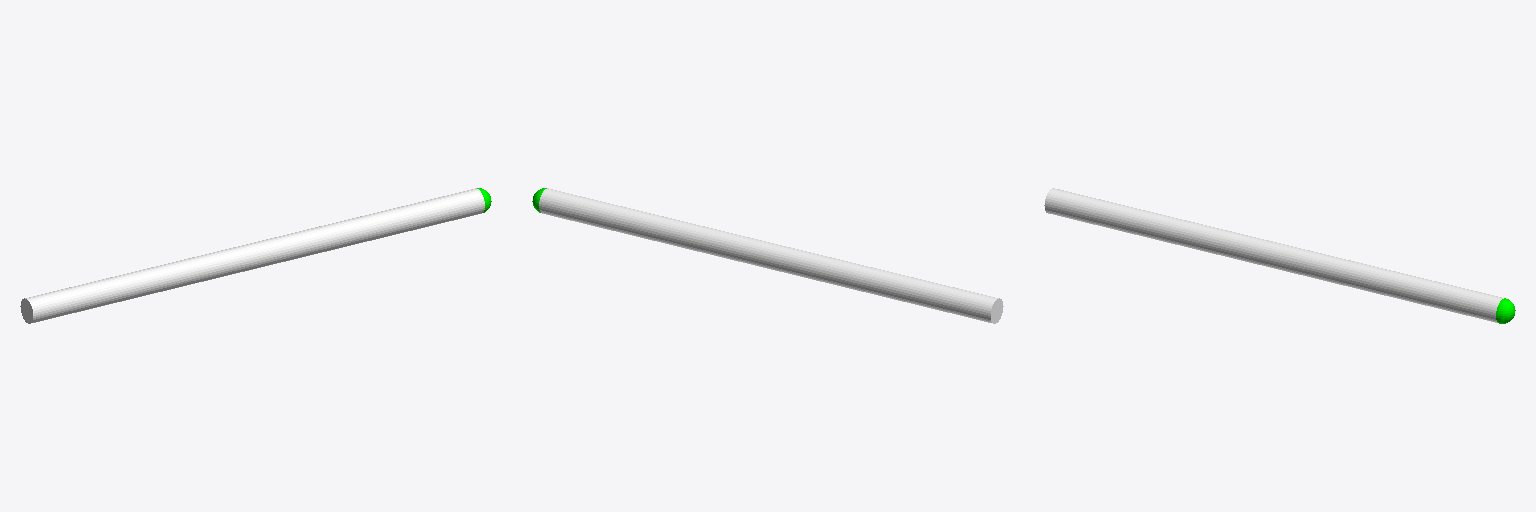
robot.urdf — two_link_arm:
<?xml version="1.0"?>
<robot name="two_link_arm">

  <!-- Origine -->
  <link name="base">
    <inertial>
      <origin xyz="0 0 0" rpy="0 0 0"/>
      <mass value="0.001"/>
      <inertia ixx="1e-6" iyy="1e-6" izz="1e-6" ixy="0" ixz="0" iyz="0"/>
    </inertial>
  </link>

  <!-- Premier axe (joint 1) -->
  <joint name="joint1" type="revolute">
    <parent link="base"/>
    <child link="link1"/>
    <origin xyz="0 0 0" rpy="0 0 0"/>
    <axis xyz="0 0 1"/>
    <!-- NOTE : pas sûr qu'il faille garder les limites -->
    <limit lower="-3.14" upper="3.14" effort="10" velocity="2"/>
  </joint>

  <!-- Link 1 -->
  <link name="link1">
    <visual>
      <geometry>
        <cylinder radius="0.05" length="1.0"/>
      </geometry>
      <!-- Cylindre orienté sur X -->
      <origin xyz="0.5 0 0" rpy="0 1.5708 0"/>
      <material name="white">
        <color rgba="1 1 1 1"/>
      </material>
    </visual>
    <collision>
      <geometry>
        <cylinder radius="0.05" length="1.0"/>
      </geometry>
      <origin xyz="0.5 0 0" rpy="0 1.5708 0"/>
    </collision>
    <inertial>
      <origin xyz="0.5 0 0" rpy="0 0 0"/>
      <mass value="1.0"/>
      <!-- Calcul de l'inertie : selon les deux axes perpendiculaires : 1.0 * ((0.05**2)/4 + (0.75**2)/12) = 0.0475 ; selon la longueur : 1.0 * (0.05)**2 / 2 = 0.00125  -->
      <inertia ixx="0.00125" iyy="0.0475" izz="0.0475" ixy="0" ixz="0" iyz="0"/>
    </inertial>
  </link>

  <!-- Deuxième axe (joint 2) -->
  <joint name="joint2" type="revolute">
    <parent link="link1"/>
    <child link="link2"/>
    <!-- placé à l'extrémité de link1 -->
    <origin xyz="1.0 0 0" rpy="0 0 0"/>
    <axis xyz="0 0 1"/>
    <!-- NOTE : pas sûr qu'il faille garder les limites -->
    <limit lower="-3.14" upper="3.14" effort="10" velocity="2"/>
  </joint>

  <!-- Link 2 -->
  <link name="link2">
    <visual>
      <geometry>
        <cylinder radius="0.05" length="1.0"/>
      </geometry>
      <origin xyz="0.5 0 0" rpy="0 1.5708 0"/>
      <material name="white">
        <color rgba="1 1 1 1"/>
      </material>
    </visual>
    <collision>
      <geometry>
        <cylinder radius="0.05" length="1.0"/>
      </geometry>
      <!-- Cylindre orienté sur X -->
      <origin xyz="0.5 0 0" rpy="0 1.5708 0"/>
    </collision>
    <inertial>
      <origin xyz="0.5 0 0" rpy="0 0 0"/>
      <mass value="1.0"/>
      <!-- Calcul de l'inertie : selon les deux axes perpendiculaires : 1.0 * ((0.05**2)/4 + (0.75**2)/12) = 0.0475 ; selon la longueur : 1.0 * (0.05)**2 / 2 = 0.00125  -->
      <inertia ixx="0.00125" iyy="0.0475" izz="0.0475" ixy="0" ixz="0" iyz="0"/>
    </inertial>
  </link>


  <!-- AJOUT : end-effector -->
  <!-- End-effector joint -->
  <joint name="ee_joint" type="fixed">
    <parent link="link2"/>
    <child link="ee_link"/>
    <!-- placé à l'extrémité de link2 -->
    <origin xyz="1.0 0 0" rpy="0 0 0"/>
  </joint>

  <!-- End-effector link -->
  <link name="ee_link">
    <!-- pas de masse, pas d'inertie -->
    <inertial>
      <mass value="0.0"/>
      <inertia ixx="0.0" iyy="0.0" izz="0.0" ixy="0.0" ixz="0.0" iyz="0.0"/>
    </inertial>
    <visual>
      <geometry>
        <sphere radius="0.05"/>
      </geometry>
      <origin xyz="0 0 0" rpy="0 0 0"/>
      <material name="green">
        <color rgba="0 1 0 1"/>
      </material>
    </visual>
  </link>

</robot>

--- What the picture shows (computed from the rendered views, not written in the file) ---
The picture shows the robot from 3 angles, left to right: view 1: azimuth 30°, elevation 25°; view 2: azimuth 150°, elevation 25°; view 3: azimuth 330°, elevation 25°; orthographic projection.
Model two_link_arm with 4 links and 3 joints (2 revolute, 1 fixed), rooted at base, posed every joint at zero.
Links seen in each view (by area): view 1: link1, link2; view 2: link1, link2; view 3: link2, link1.
Boxes of the visible links, box(x1,y1,x2,y2) form: link1: box(20, 243, 258, 323); link2: box(251, 188, 484, 267); link1: box(765, 243, 1003, 323); link2: box(539, 188, 772, 267); link2: box(1270, 243, 1503, 322); link1: box(1044, 188, 1277, 267).
Bounding box of the posed robot: 2.05 × 0.1 × 0.1 m (x, y, z).
Geometry: primitives only (box / cylinder / sphere), no mesh files.